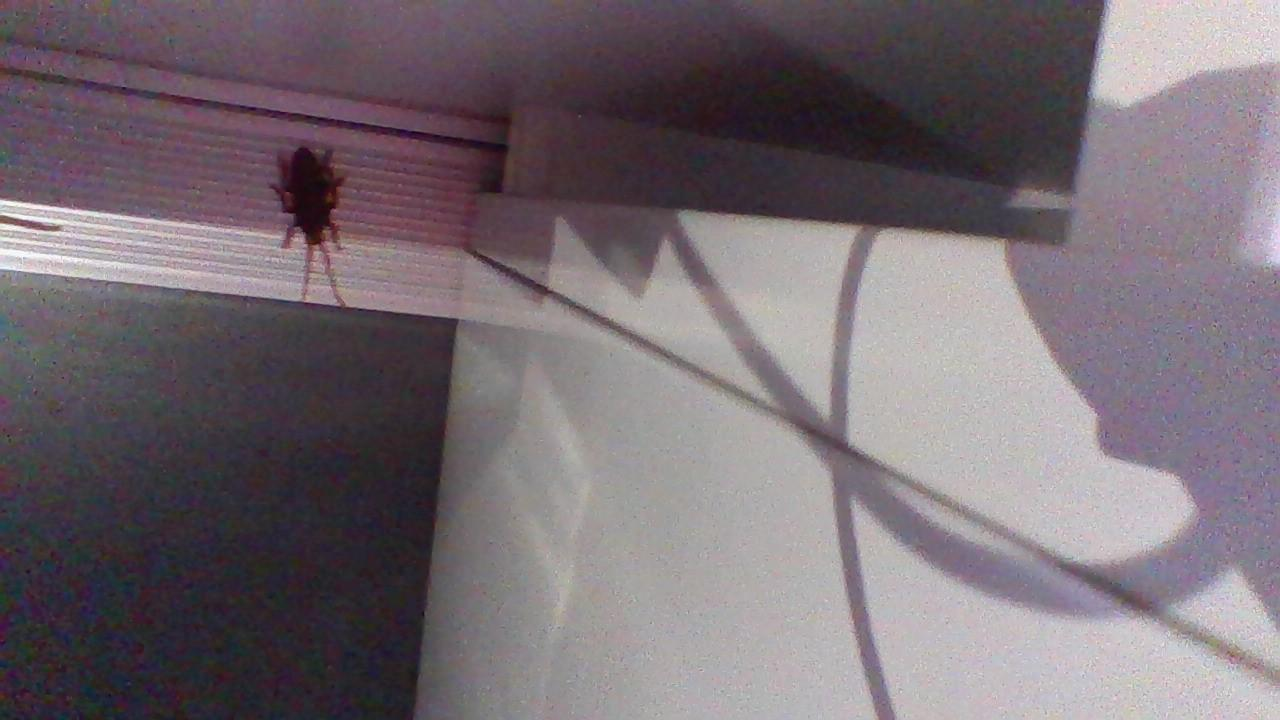cockroach: (269, 130, 361, 311)
